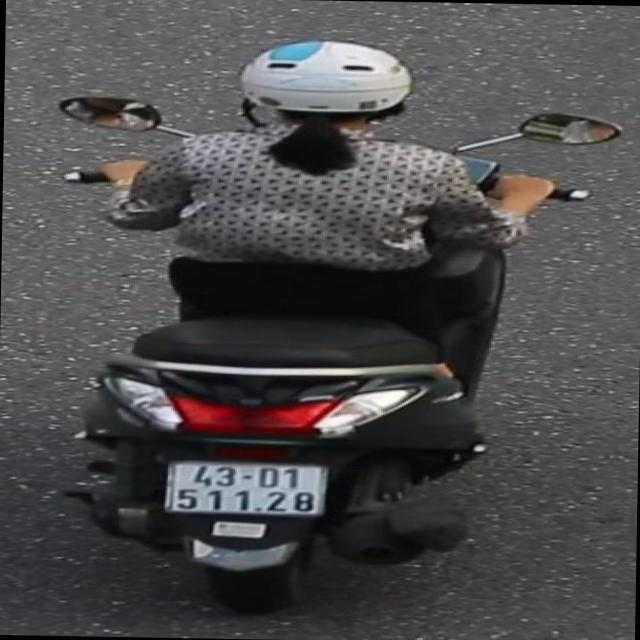LP: (158, 454, 338, 522)
helmet: (226, 32, 422, 148)
